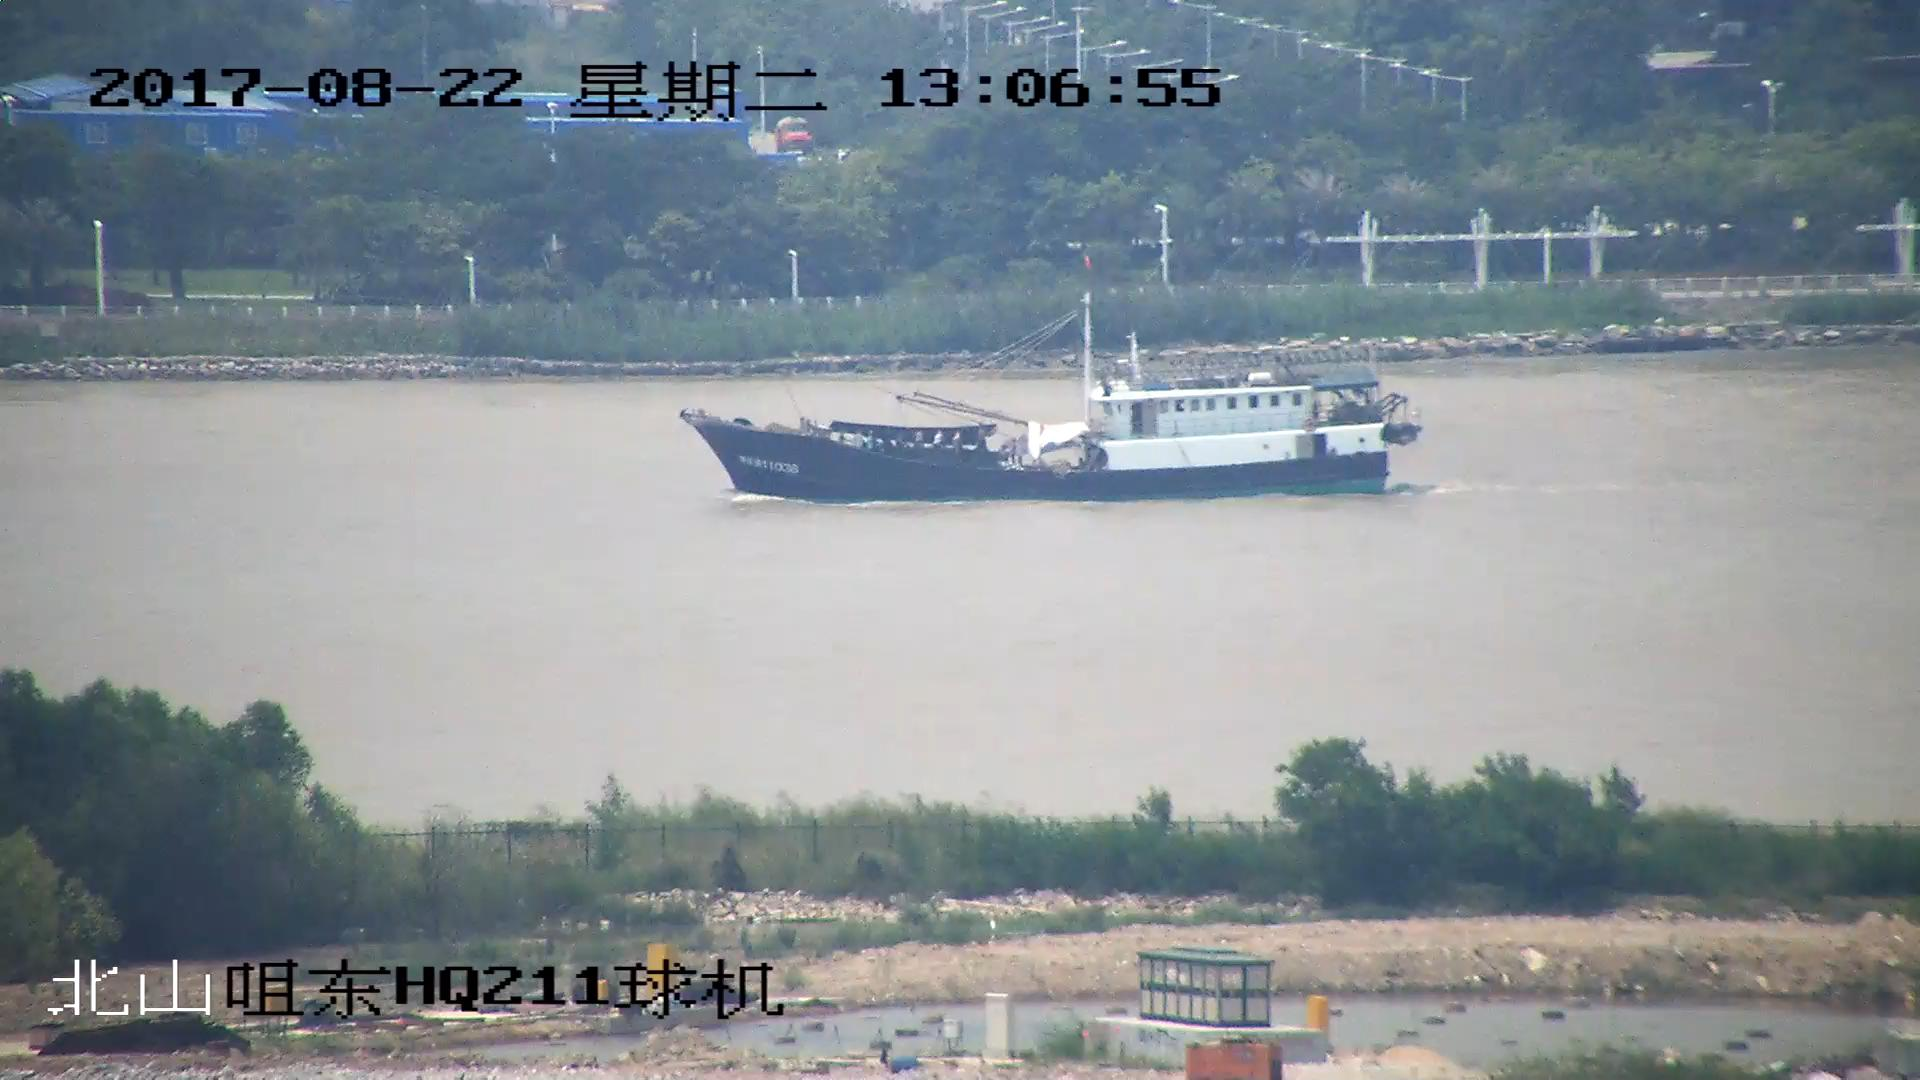fishing boat: (678, 288, 1413, 503)
